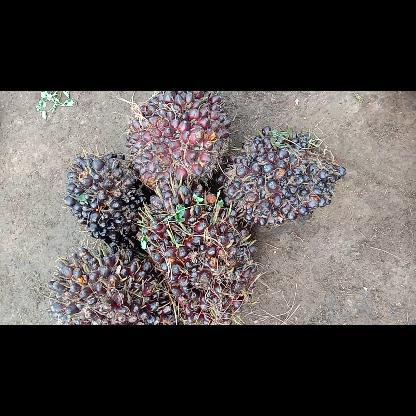TBS mentah: (134, 180, 260, 324), (214, 123, 348, 229), (124, 91, 235, 201), (47, 246, 182, 324), (59, 151, 151, 255)
